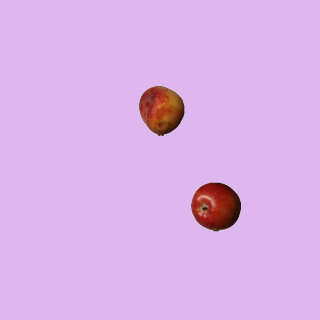Apple Braeburn: (190, 181, 240, 231)
Peach: (136, 85, 186, 135)
